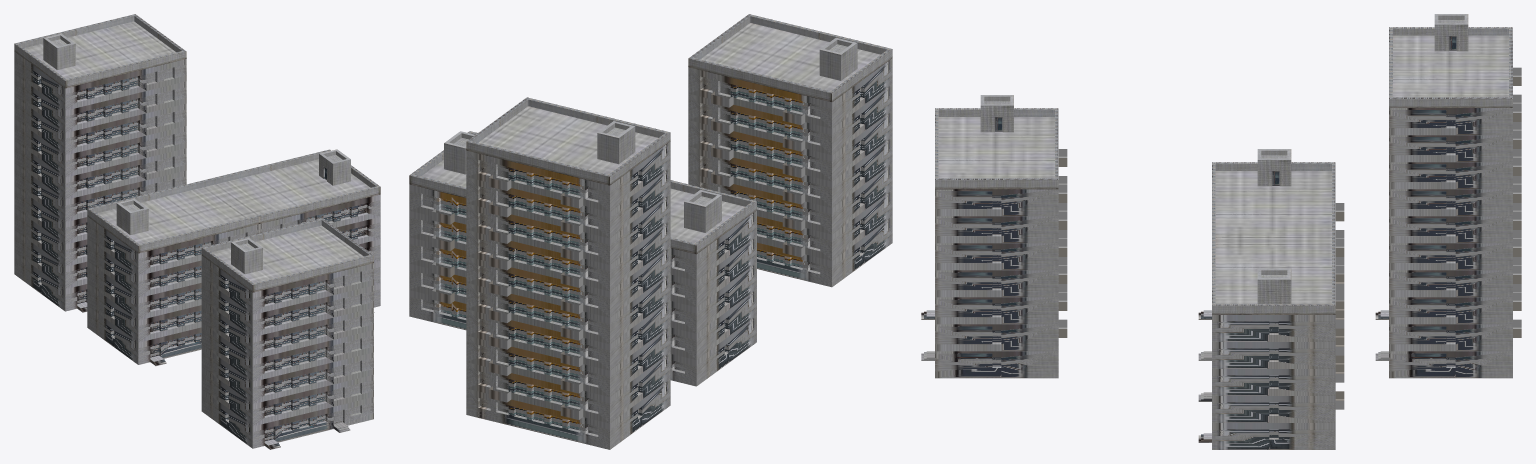
The model's file is flats.fbx.
3 renders of one model, left to right at view 1: azimuth 30°, elevation 25°; view 2: azimuth 150°, elevation 25°; view 3: azimuth 270°, elevation 25°, orthographic. The views are drawn at different scales.
Visible parts, largest first — view 1: r1.003, r1.006, r1.002, r1.001, f1.006, t2.008, t1.007, t1.009, t1.010, t2.009, t2.011, t2.010 (+16 smaller); view 2: r1.003, r1.006, t2.011, t1.010, t2.010, t2.007, t1.009, t2.009, t1.005, t2.008, t1.006, t2.014 (+19 smaller); view 3: r1.006, r1.003, r1.001, r1.002, t1.010, t2.011, f1.006, t1.009, t2.012, t2.013, t2.014, t2.015 (+14 smaller).
Part boxes in pixels (<box>): r1.003: <box>14,14,186,88</box>; r1.006: <box>201,218,373,292</box>; r1.002: <box>209,149,380,223</box>; r1.001: <box>87,179,259,253</box>; f1.006: <box>201,389,373,449</box>; t2.008: <box>14,140,186,199</box>; t1.007: <box>14,118,186,177</box>; t1.009: <box>201,322,373,381</box>; t1.010: <box>201,255,373,314</box>; t2.009: <box>14,96,186,155</box>; t2.011: <box>14,51,186,110</box>; t2.010: <box>14,74,186,132</box>; r1.003: <box>466,97,670,185</box>; r1.006: <box>688,14,892,101</box>; t2.011: <box>466,141,670,211</box>; t1.010: <box>688,58,892,128</box>; t2.010: <box>466,168,670,238</box>; t2.007: <box>466,273,670,343</box>; t1.009: <box>688,137,892,207</box>; t2.009: <box>466,194,670,264</box>; t1.005: <box>466,353,670,423</box>; t2.008: <box>466,247,670,317</box>; t1.006: <box>466,300,670,370</box>; t2.014: <box>688,111,892,181</box>; r1.006: <box>935,95,1058,189</box>; r1.003: <box>1389,14,1512,107</box>; r1.001: <box>1212,149,1335,240</box>; r1.002: <box>1212,234,1335,314</box>; t1.010: <box>935,149,1067,216</box>; t2.011: <box>1389,67,1521,135</box>; f1.006: <box>921,310,1058,378</box>; t1.009: <box>935,230,1067,297</box>; t2.012: <box>935,284,1067,351</box>; t2.013: <box>935,257,1067,324</box>; t2.014: <box>935,203,1067,270</box>; t2.015: <box>935,176,1067,243</box>.
Bounding box in the file's own units: 4037 × 3930 × 7145.
